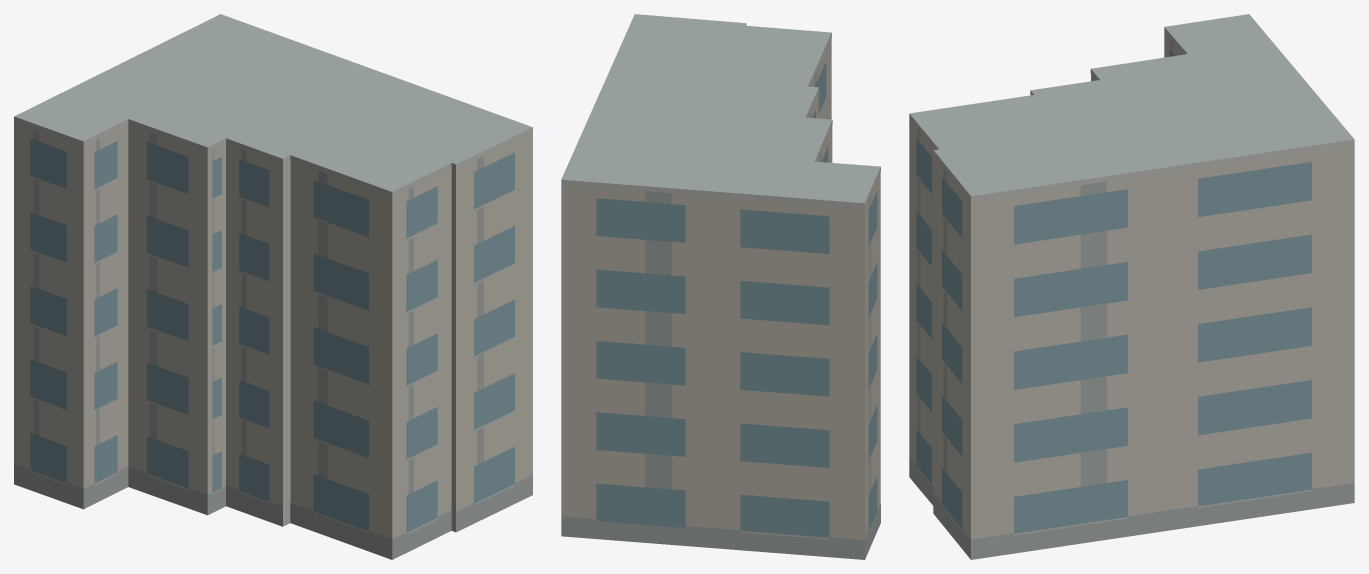
Rendered from survey-upis-32874088.glb.
3 views of the same model, side by side, from view 1: azimuth 30°, elevation 25°; view 2: azimuth 150°, elevation 25°; view 3: azimuth 270°, elevation 25° (orthographic). The views are drawn at different scales.
Parts seen in each view (by area): view 1: survey-upis-32874088.tmp; view 2: survey-upis-32874088.tmp; view 3: survey-upis-32874088.tmp.
Part boxes in pixels (x1,y1,x2,y2): survey-upis-32874088.tmp: (14,14,532,559); survey-upis-32874088.tmp: (561,14,880,559); survey-upis-32874088.tmp: (909,14,1354,559).
Bounding box in the file's own units: 18.62 × 17.3 × 19.21.
